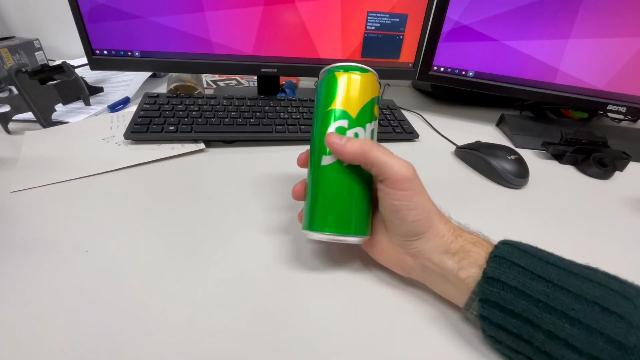Sprite: (299, 57, 383, 249)
